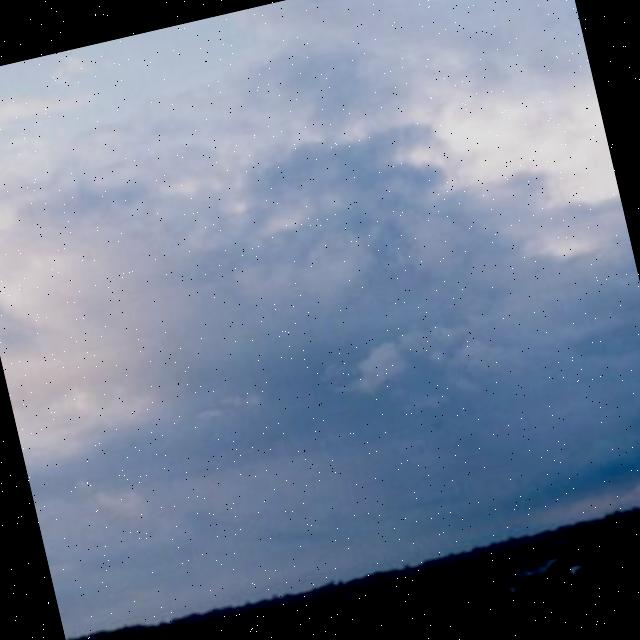Sc: (1, 1, 640, 567)
